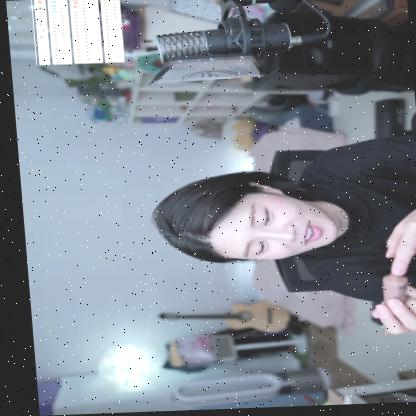streamer: (144, 135, 416, 345)
